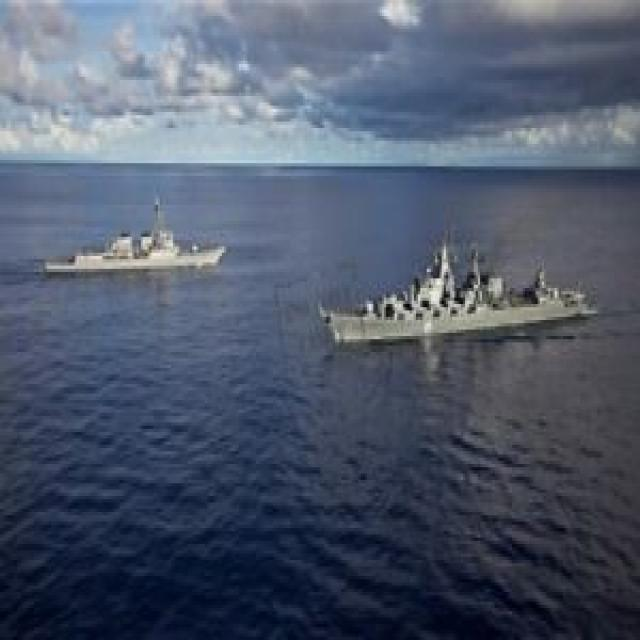navalvessels: (327, 228, 601, 344), (44, 204, 228, 286)
